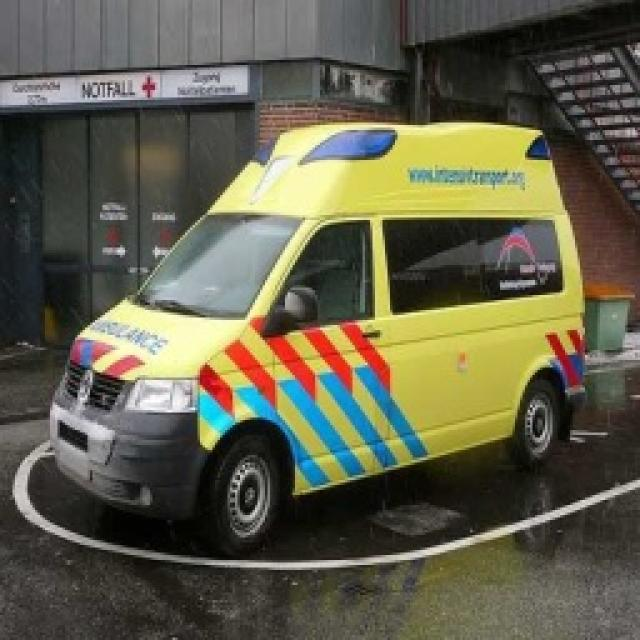ambulance: (45, 115, 600, 555)
